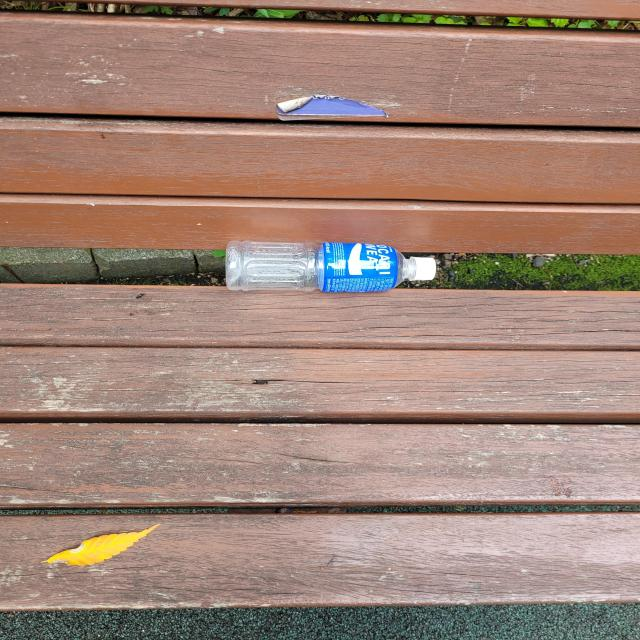litter: (225, 240, 436, 292)
